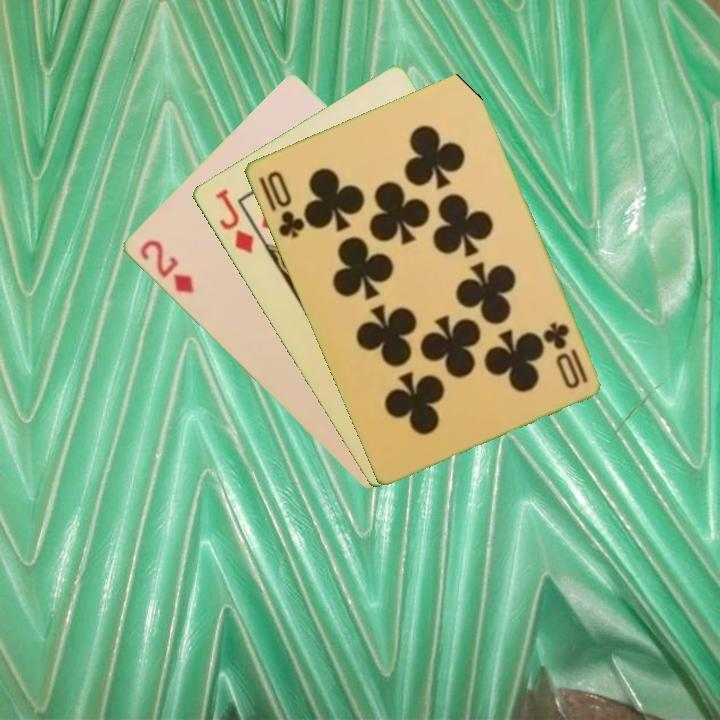10c: (540, 318, 591, 392), (262, 167, 307, 241)
2d: (135, 236, 196, 297)
Jd: (211, 185, 257, 257)
